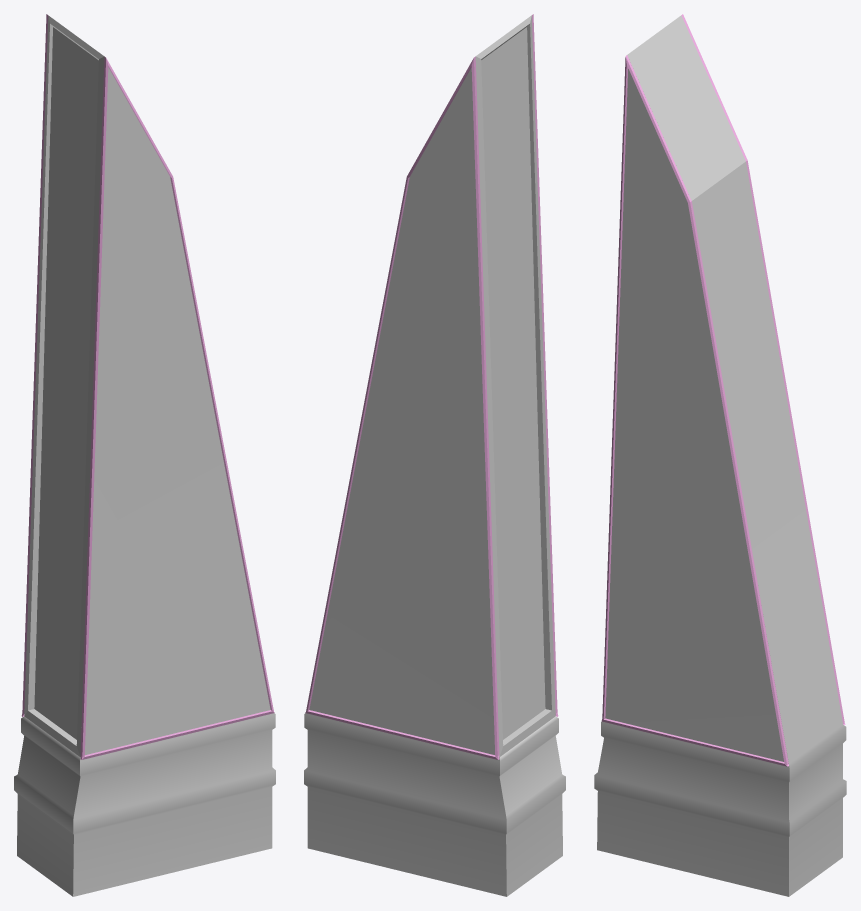
File: SM_Environment_Buildings_Tall_05.fbx
3 views of the same model, side by side, from view 1: azimuth 30°, elevation 25°; view 2: azimuth 150°, elevation 25°; view 3: azimuth 330°, elevation 25° (orthographic). The views are drawn at different scales.
Visible parts, largest first — view 1: SM_Environment_Buildings_Tall_06, Lights; view 2: SM_Environment_Buildings_Tall_06, Lights; view 3: SM_Environment_Buildings_Tall_06, Lights.
Part boxes in pixels (x1,y1,x2,y2): SM_Environment_Buildings_Tall_06: [14, 15, 275, 896]; Lights: [21, 14, 274, 759]; SM_Environment_Buildings_Tall_06: [304, 15, 565, 896]; Lights: [305, 14, 558, 759]; SM_Environment_Buildings_Tall_06: [594, 15, 846, 896]; Lights: [601, 14, 845, 766].
Bounding box in the file's own units: 14.98 × 58.85 × 7.8.
